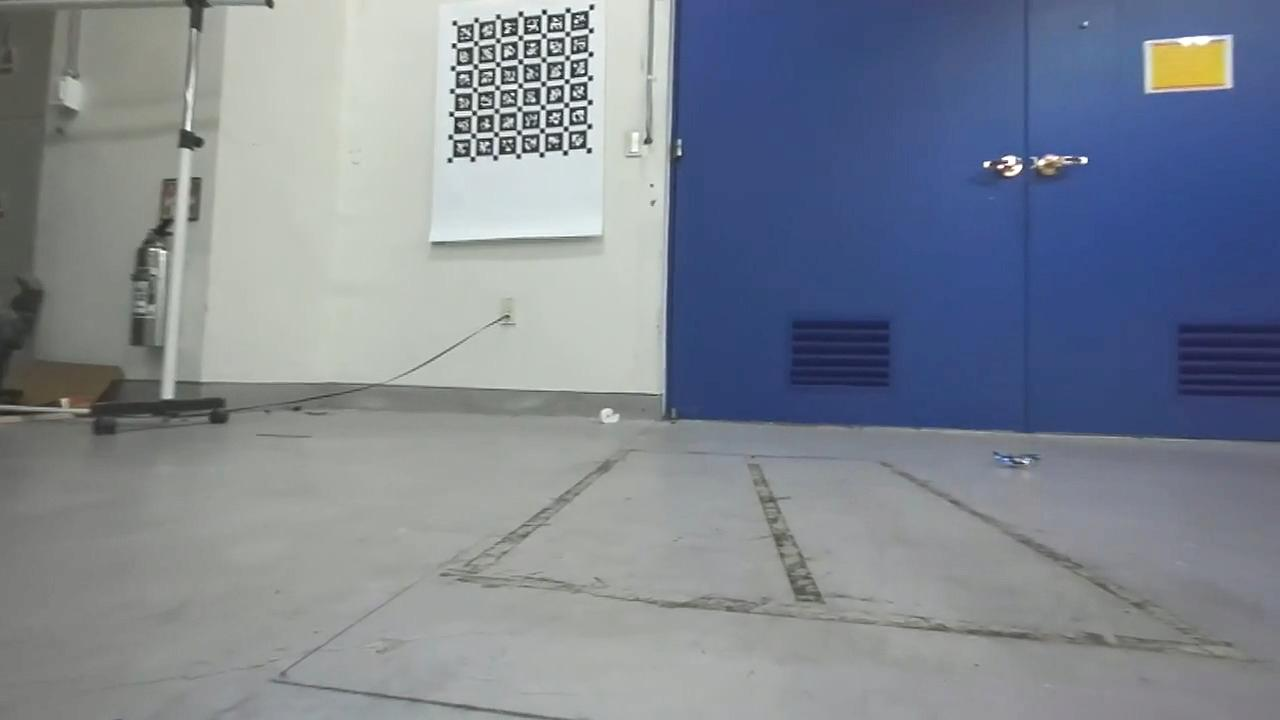crazyflie: (987, 445, 1046, 475)
